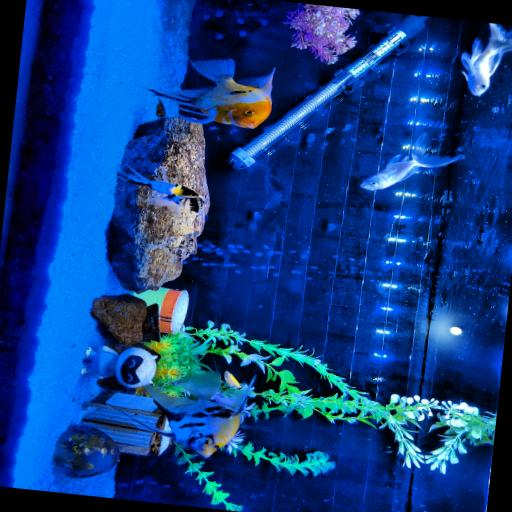Fish: (145, 371, 248, 457), (149, 59, 274, 127), (360, 133, 459, 189), (118, 164, 204, 214), (461, 23, 511, 95)
